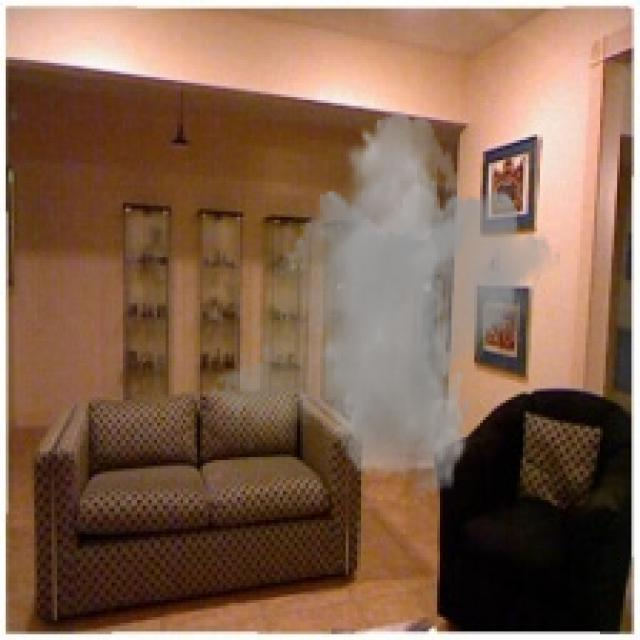smoke: (208, 112, 563, 494)
